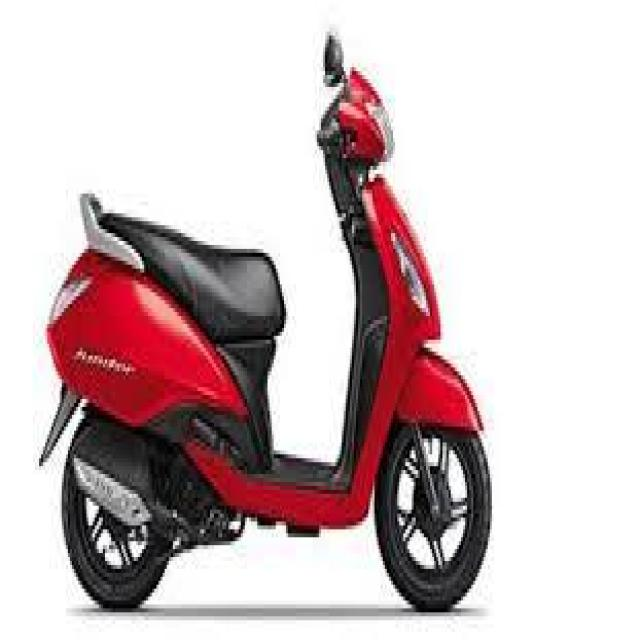motorcycle: (36, 21, 492, 618)
